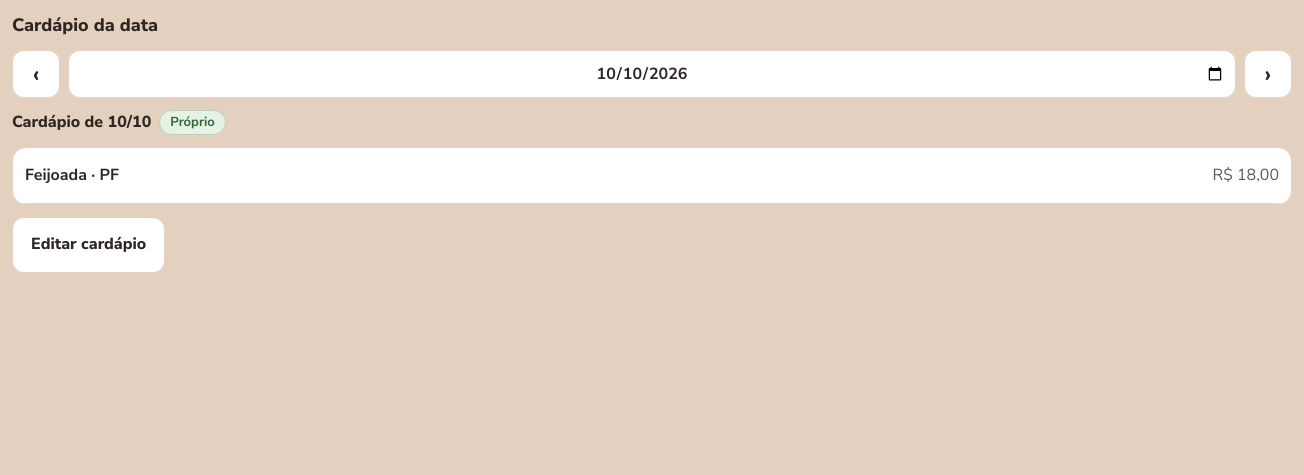
UI-08 — cardápio da data › CA-61 — salvar sem itens mostra validação e não envia
Click the button "Editar cardápio": [89, 245] box [12,217,165,273]
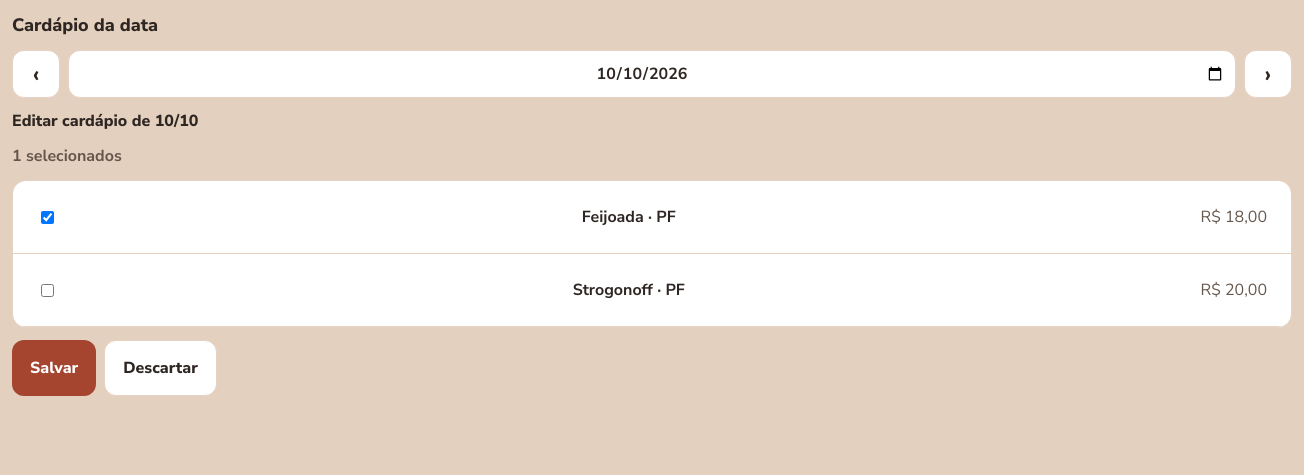
Click the checkbox labelled "Feijoada · PF R$ 18,00": [48, 218] box [41,211,54,224]
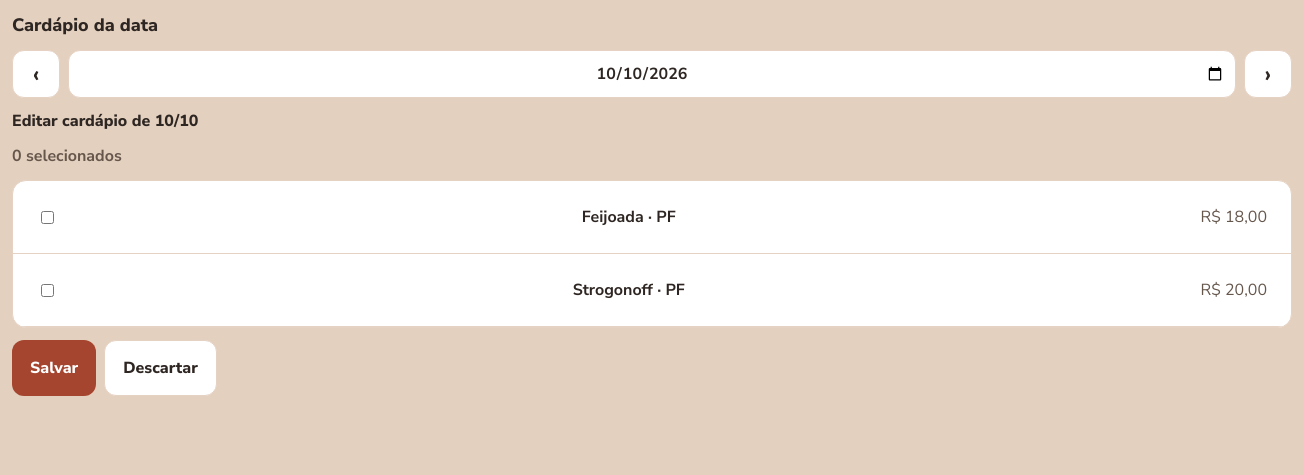
Click the button "Salvar": [54, 368] box [12,340,96,396]
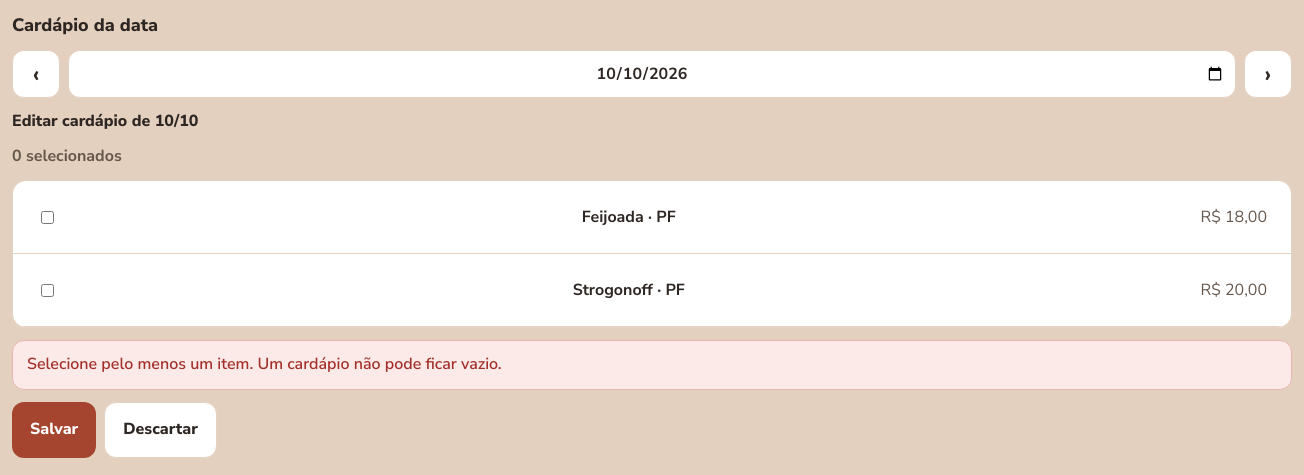
Now the text "Selecione pelo menos um item. Um cardápio não pode ficar vazio." is shown, box [12,340,1292,390]
